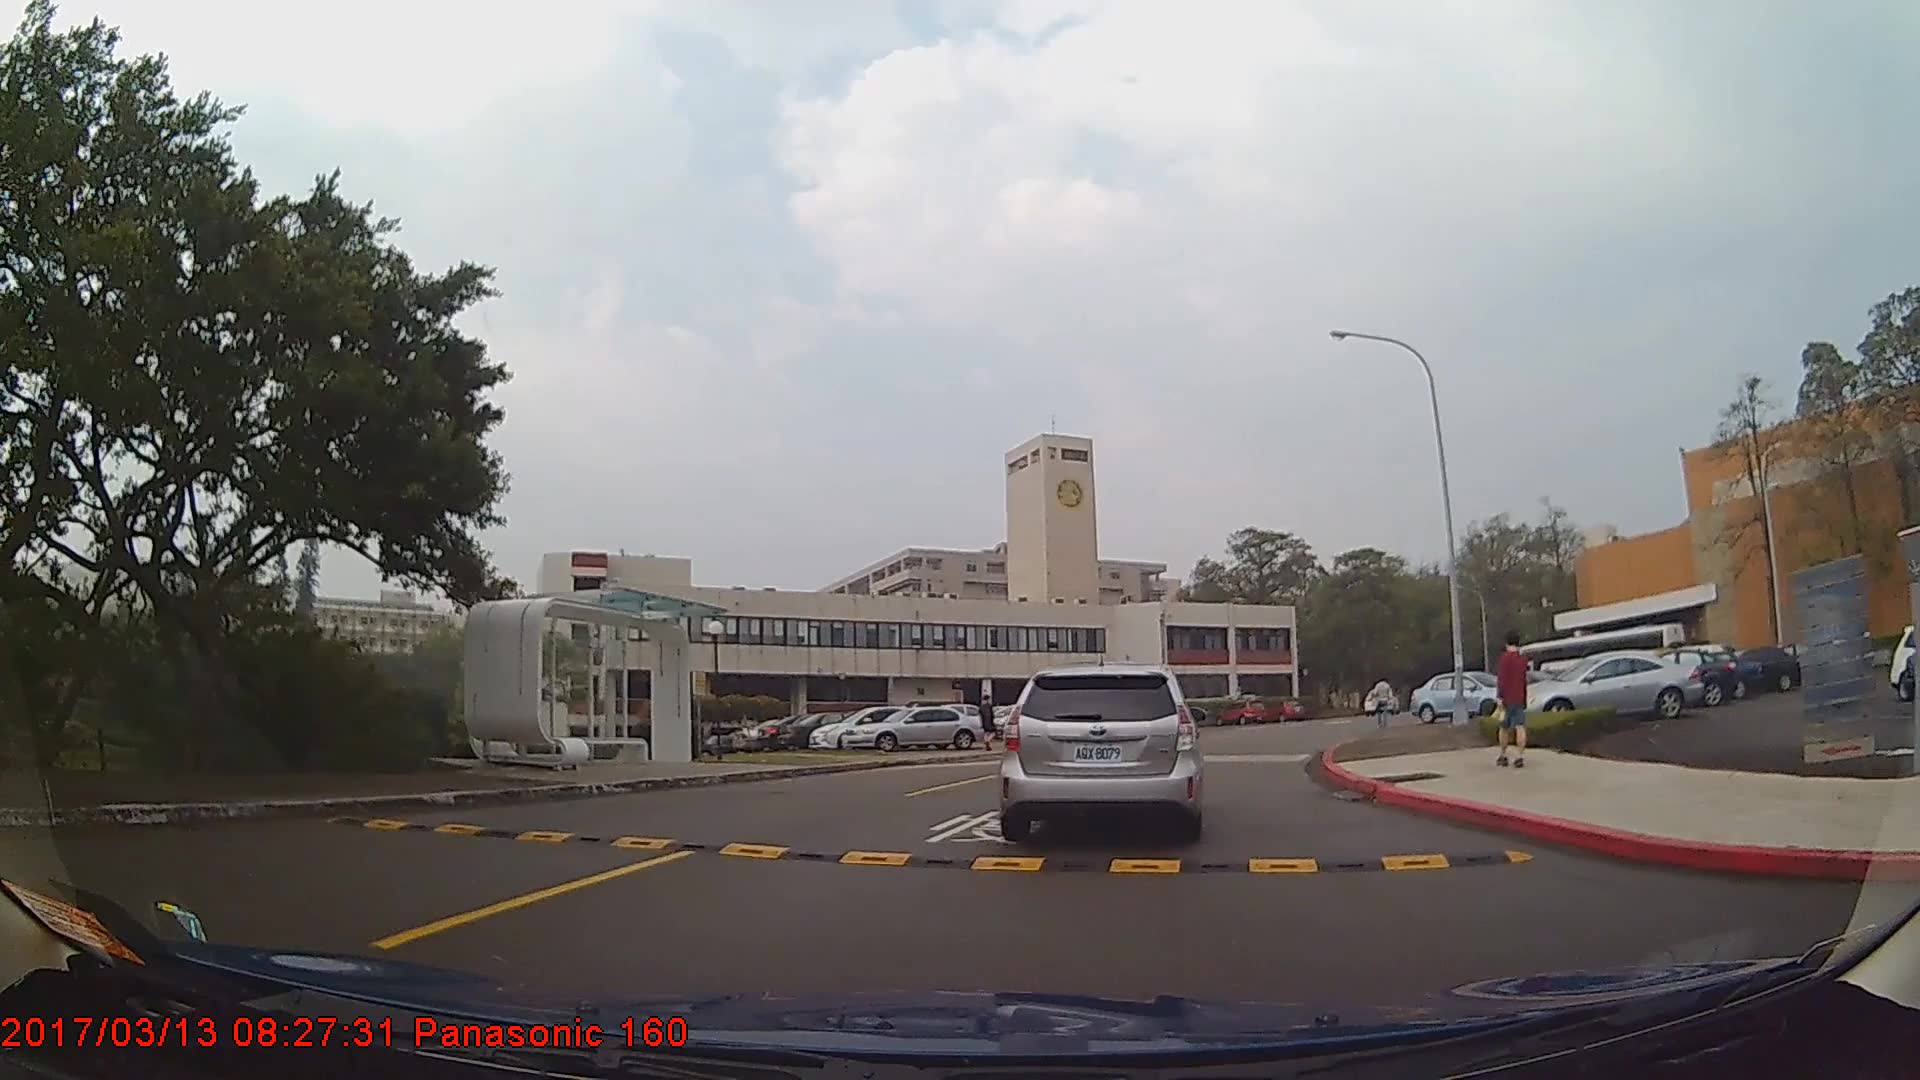pedestrian: (1492, 631, 1535, 768), (1370, 675, 1397, 733), (979, 695, 999, 754)
vehicle: (1002, 663, 1202, 839), (1515, 651, 1702, 722), (838, 704, 984, 751), (1627, 648, 1737, 706), (805, 703, 935, 748), (1656, 647, 1763, 700), (1405, 672, 1506, 722), (778, 710, 871, 748)
